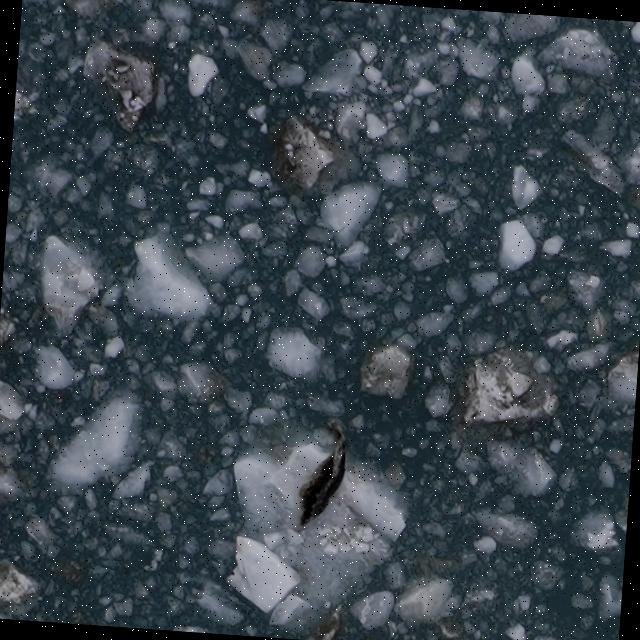seal: (294, 414, 351, 533)
